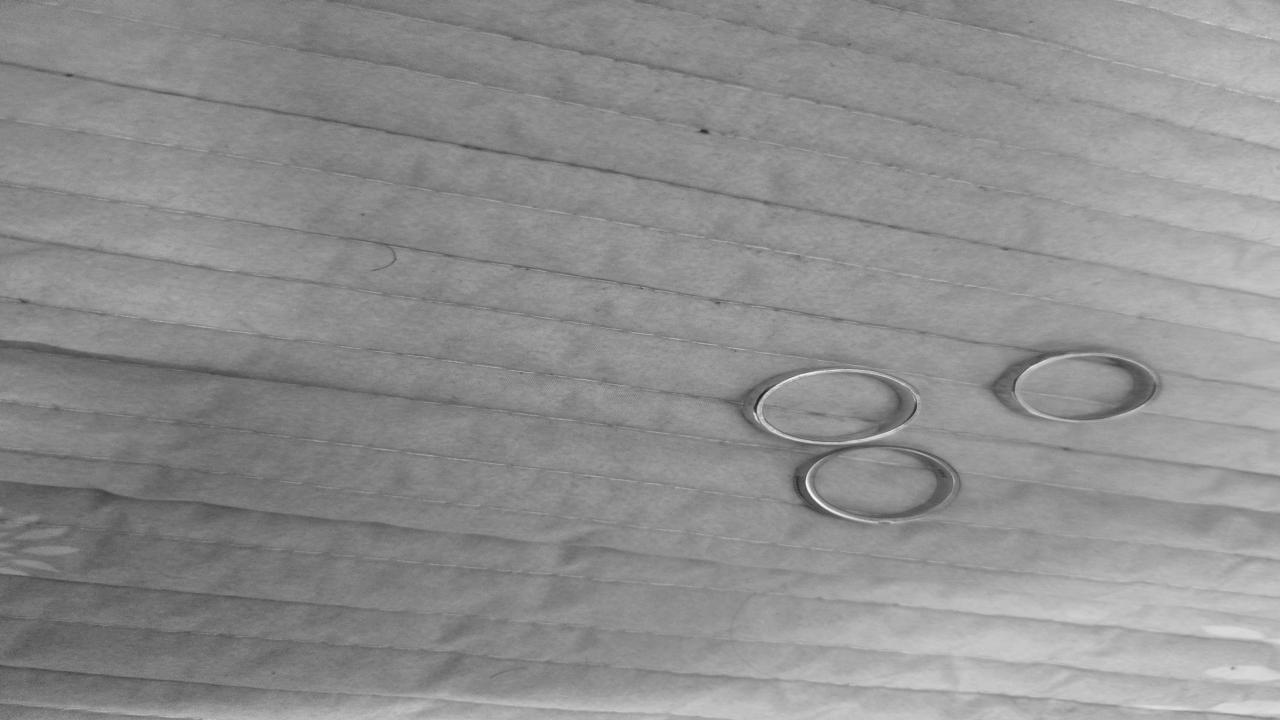ring: (794, 446, 964, 526), (743, 369, 921, 445), (999, 352, 1166, 422)
